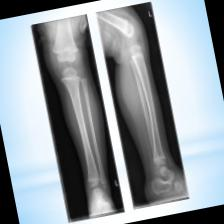longitudinal-fracture: (32, 3, 189, 222)
